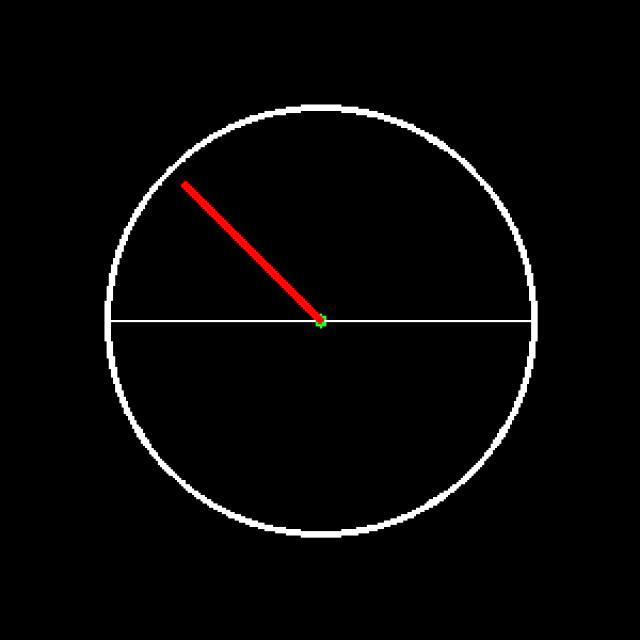Needle_Tip: (167, 161, 208, 207)
Needle_base: (284, 298, 357, 360)
